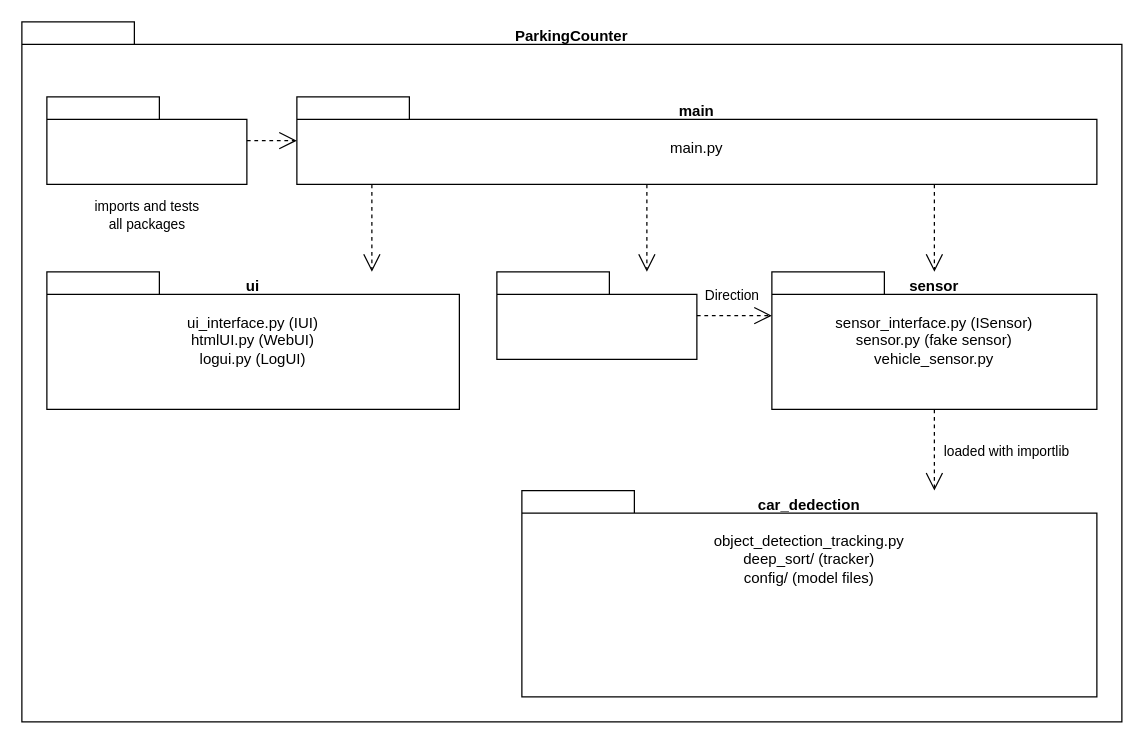
This 1144x744 diagram has some shape labels left out. Each missing label, with the centre of its shape:
"counter counter.py" belongs at point (596, 315).
"test testscript_*.py" belongs at point (146, 140).
